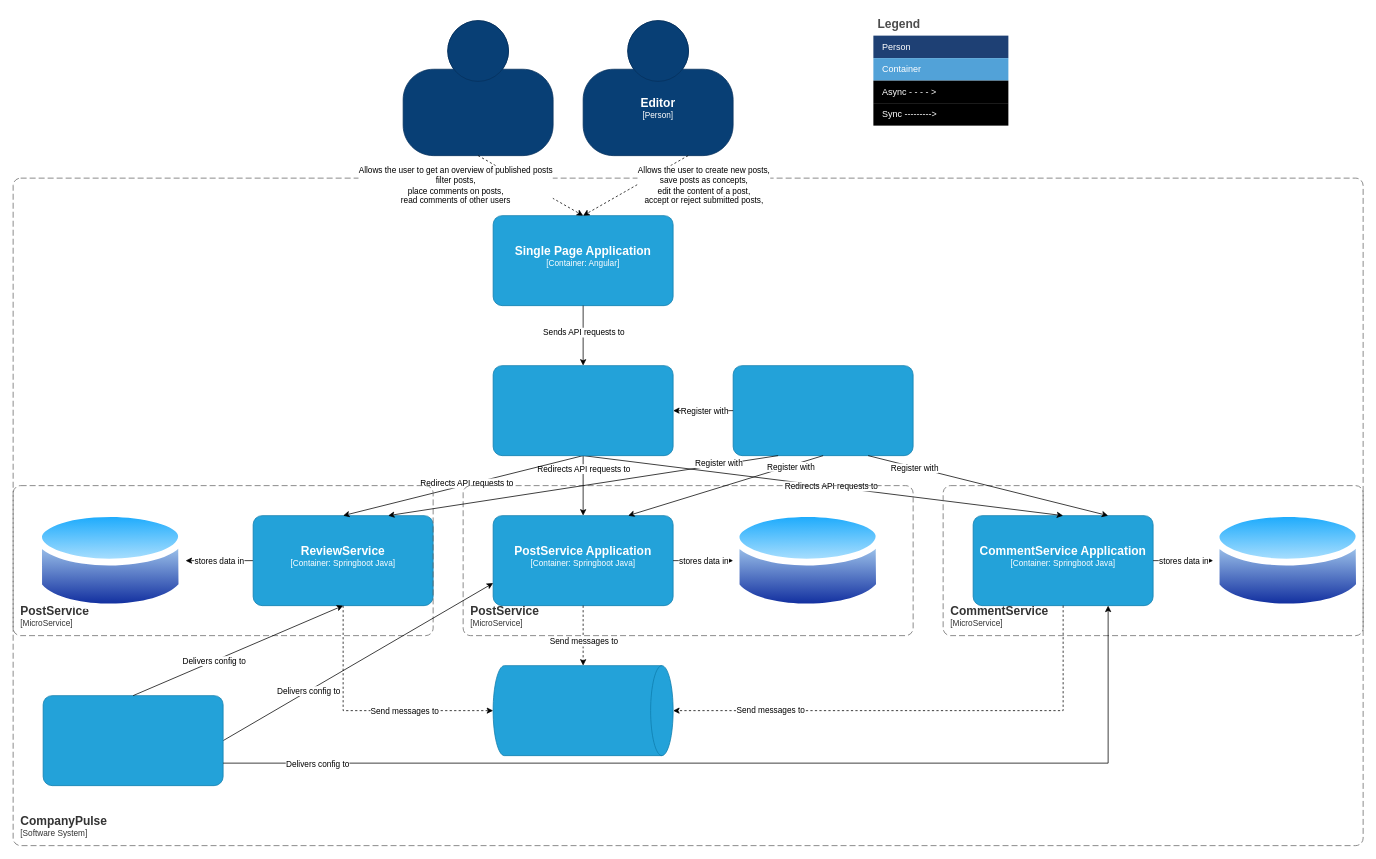
Image size: 1376x859. Some labels were removed from this diagram. The centre of each missing label's shape, as x and y in pixels:
API Gateway [Container: Springcloud Gateway]: pixel 582 410
Config Service [Container: Springcloud Config]: pixel 132 740
Discovery Service [Container: Eureka]: pixel 822 410
EventBus [Container: RabbitMQ]: pixel 582 710
Reader [Person]: pixel 477 88
